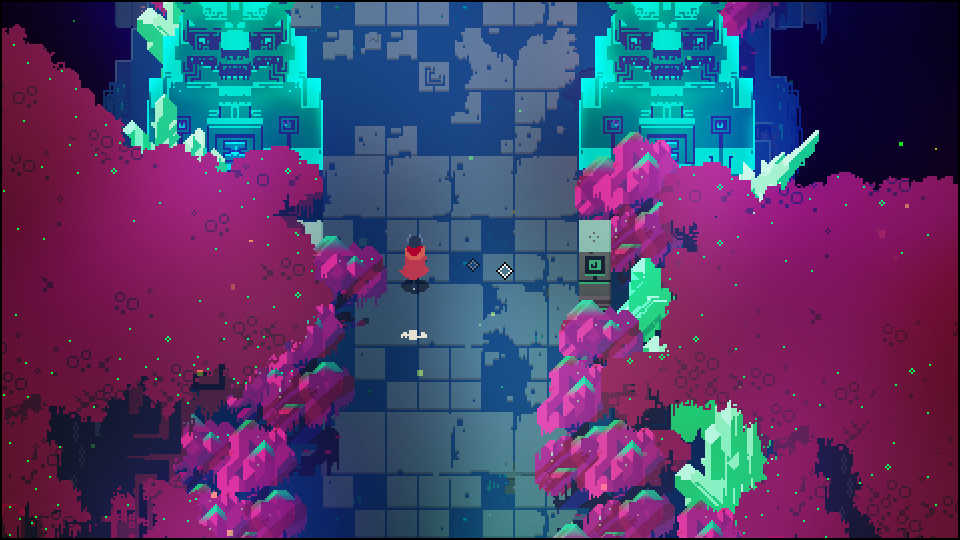player: (402, 235, 427, 290)
